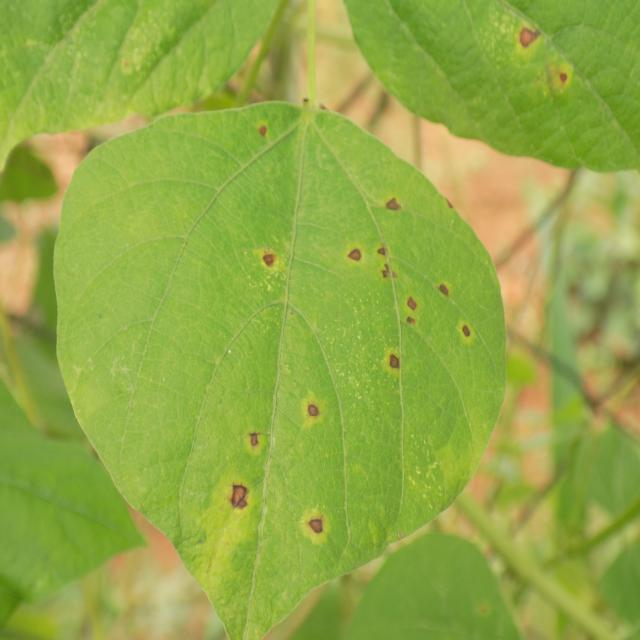Dolicos bean_cercospora leaf spot: (54, 103, 509, 640)
